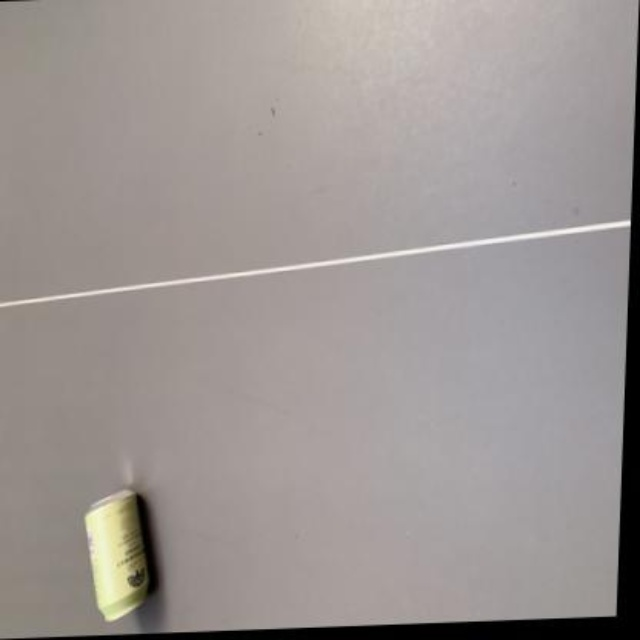trash: (85, 489, 146, 620)
